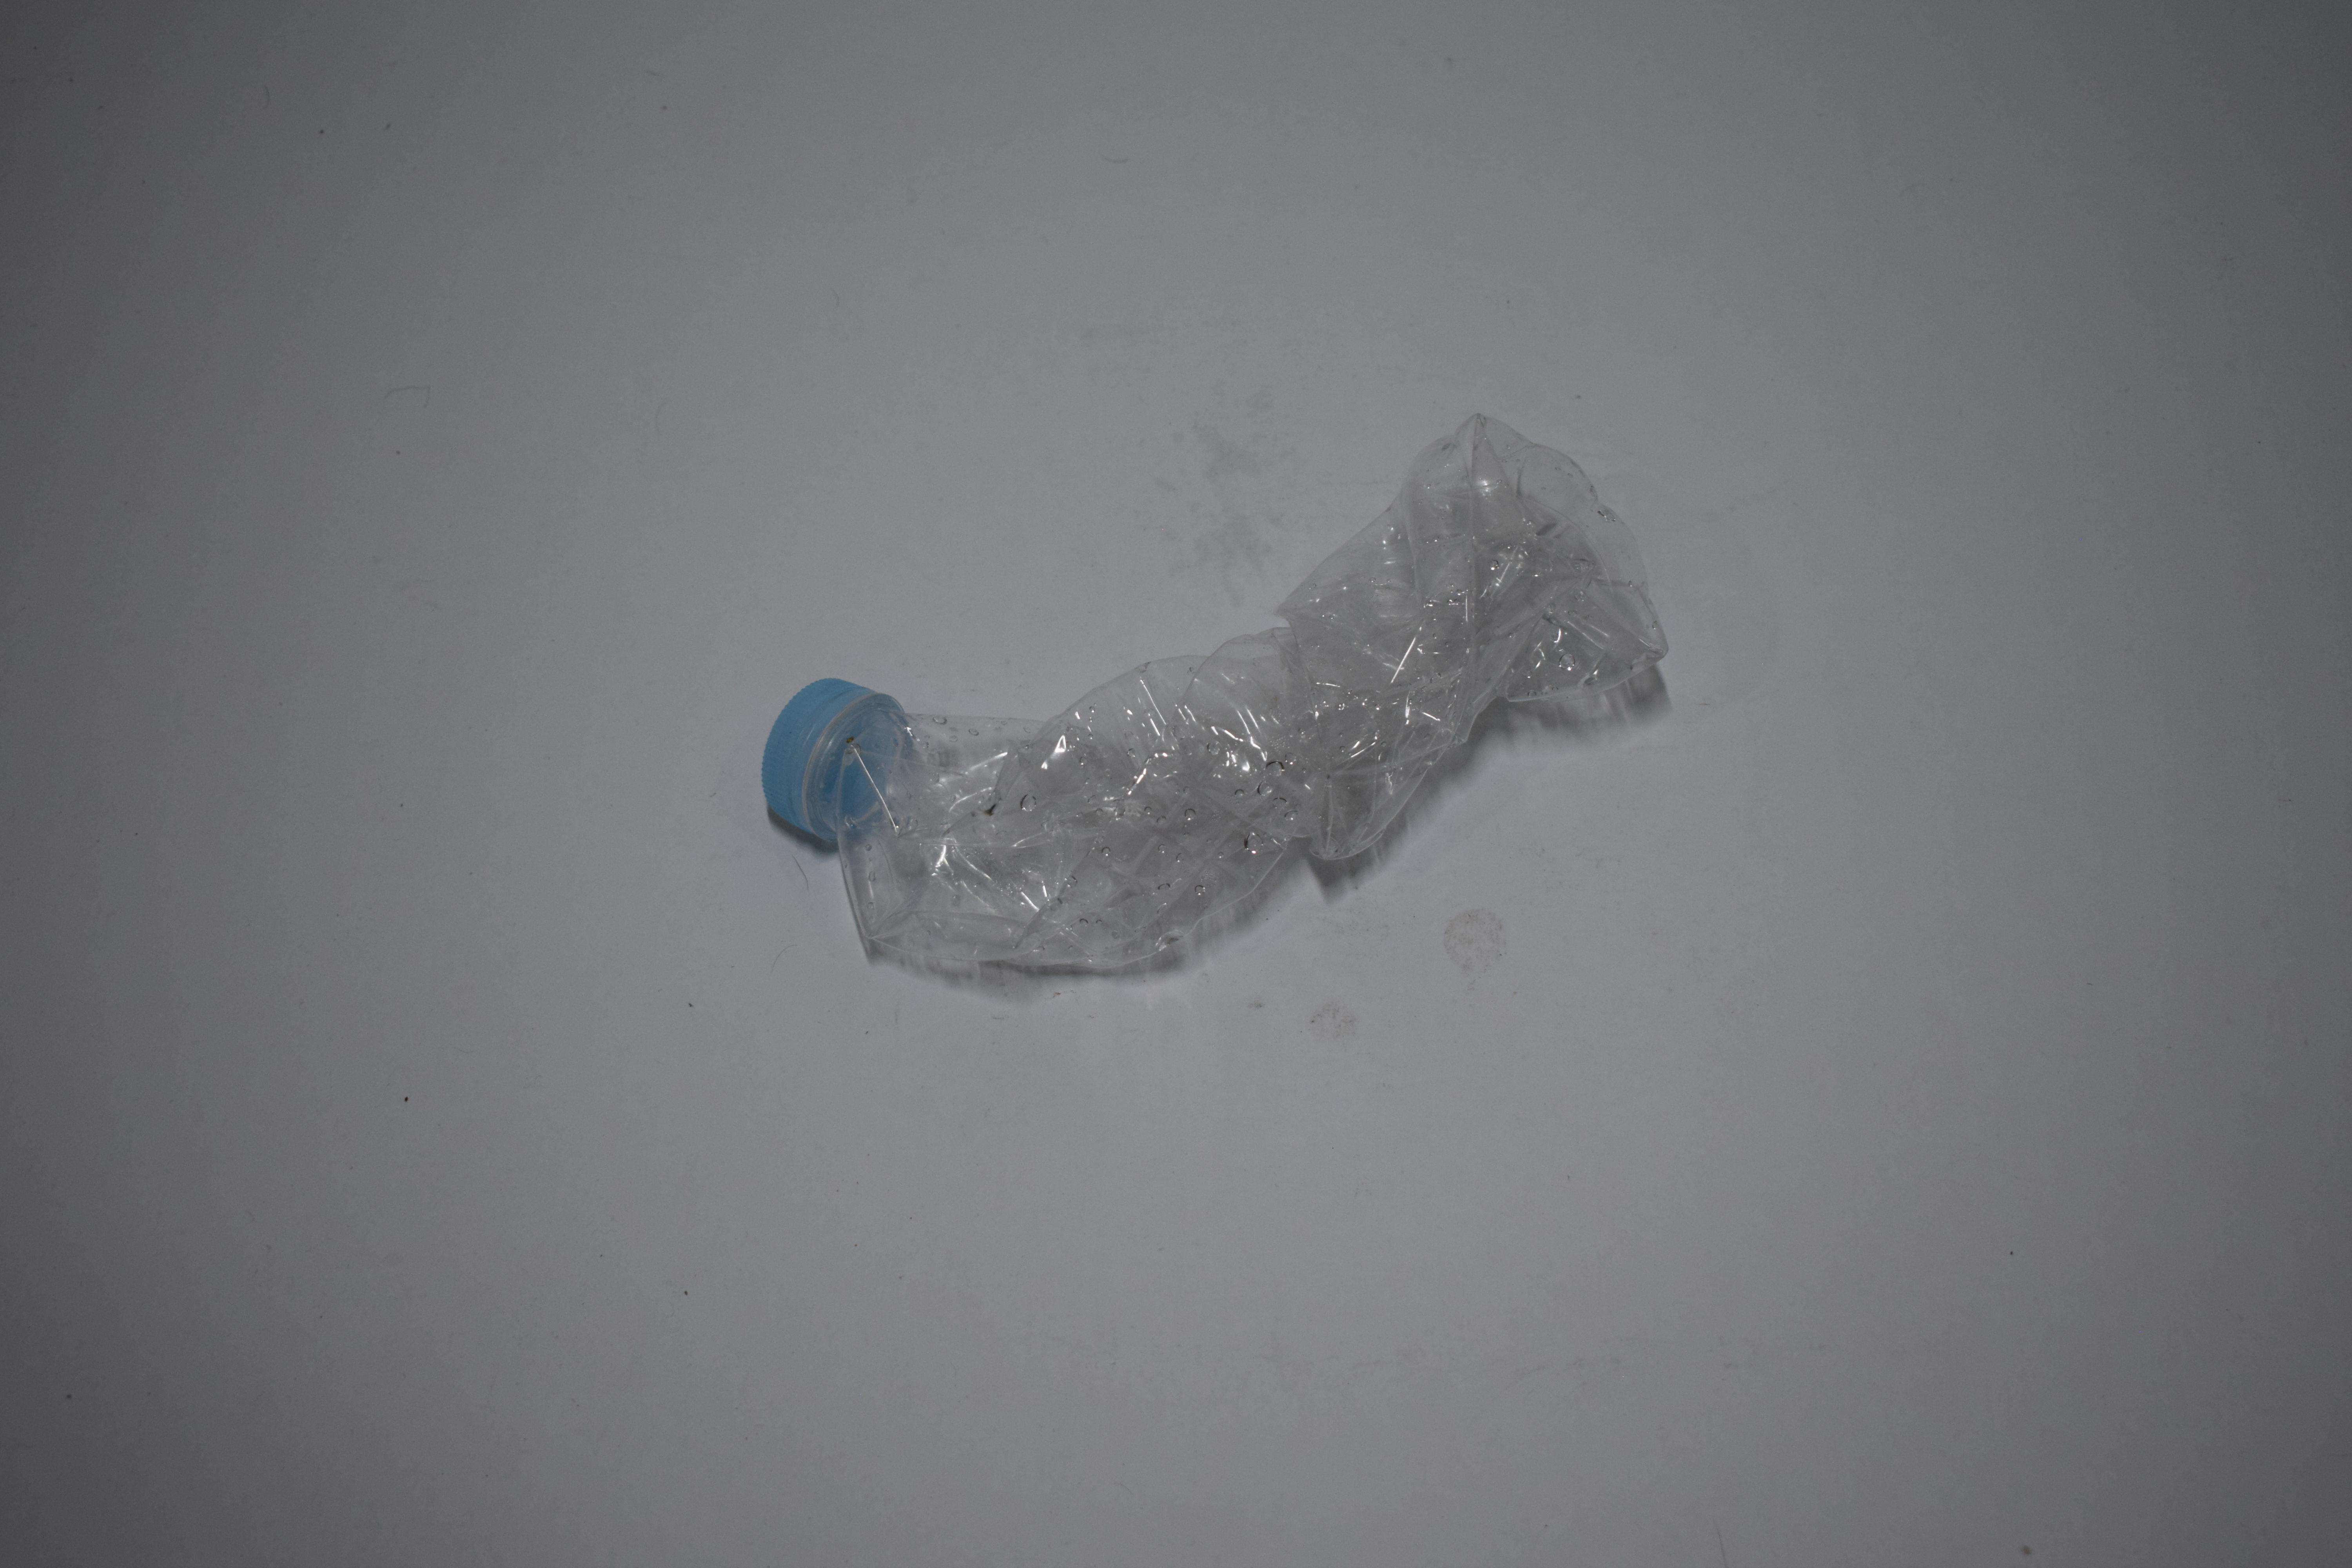bottle: (0, 402, 487, 984)
